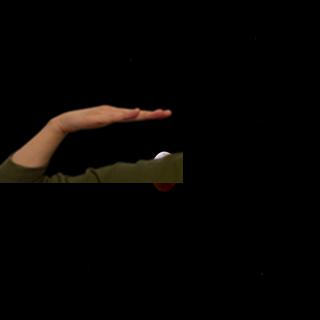WAIT: (45, 95, 176, 133)
